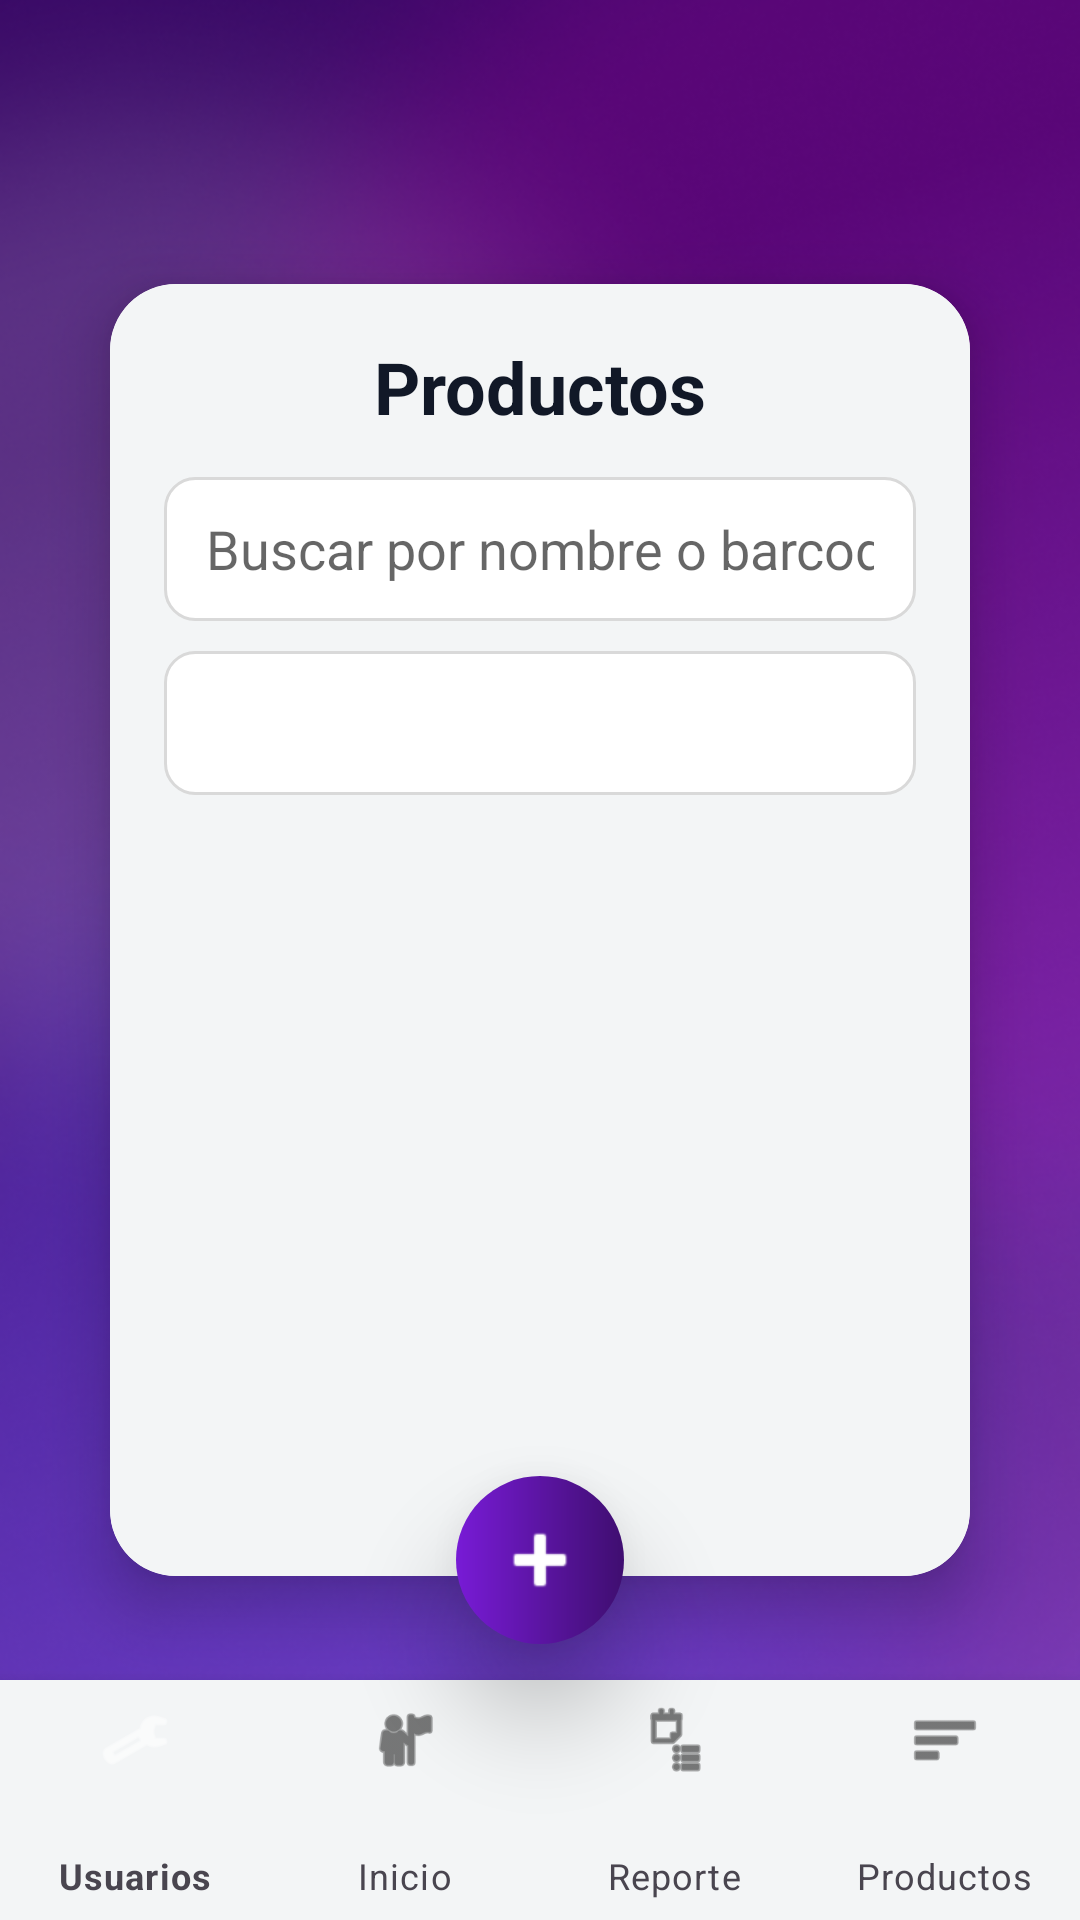

Named icons in this screenshot (1080w x 1920h) and their centers, point (x, y):
Acción: point (540, 1560)
